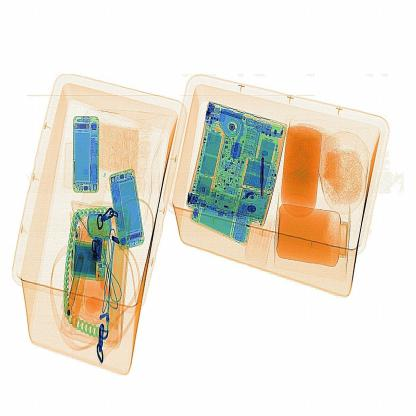knife: (256, 146, 280, 203)
